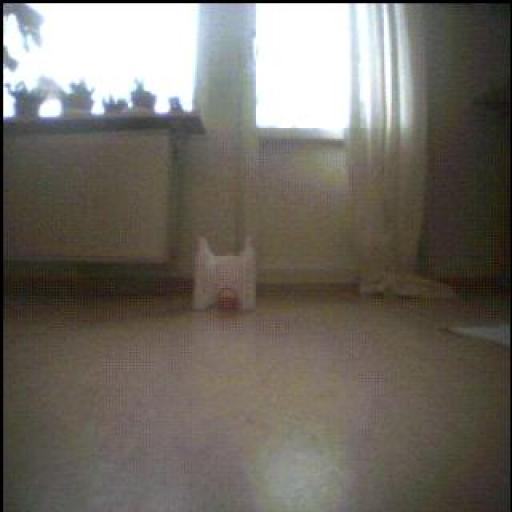Basket: (217, 289, 239, 310)
